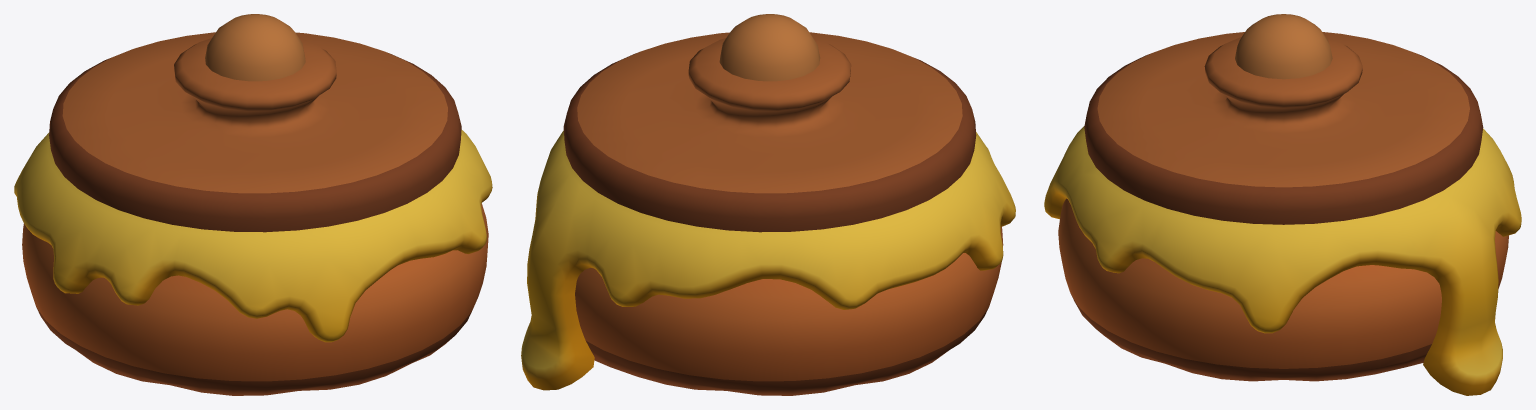
Rendered from Cosmetic_Honey_Pot.glb.
3 renders of one model, left to right at view 1: azimuth 30°, elevation 25°; view 2: azimuth 150°, elevation 25°; view 3: azimuth 270°, elevation 25°, orthographic. The views are drawn at different scales.
Visible parts, largest first — view 1: Cosmetic_Honey_Pot; view 2: Cosmetic_Honey_Pot; view 3: Cosmetic_Honey_Pot.
Part boxes in pixels (<box>): Cosmetic_Honey_Pot: <box>14,14,492,395</box>; Cosmetic_Honey_Pot: <box>521,14,1015,395</box>; Cosmetic_Honey_Pot: <box>1044,14,1521,395</box>.
Bounding box in the file's own units: 0.6805 × 0.4835 × 0.674.
